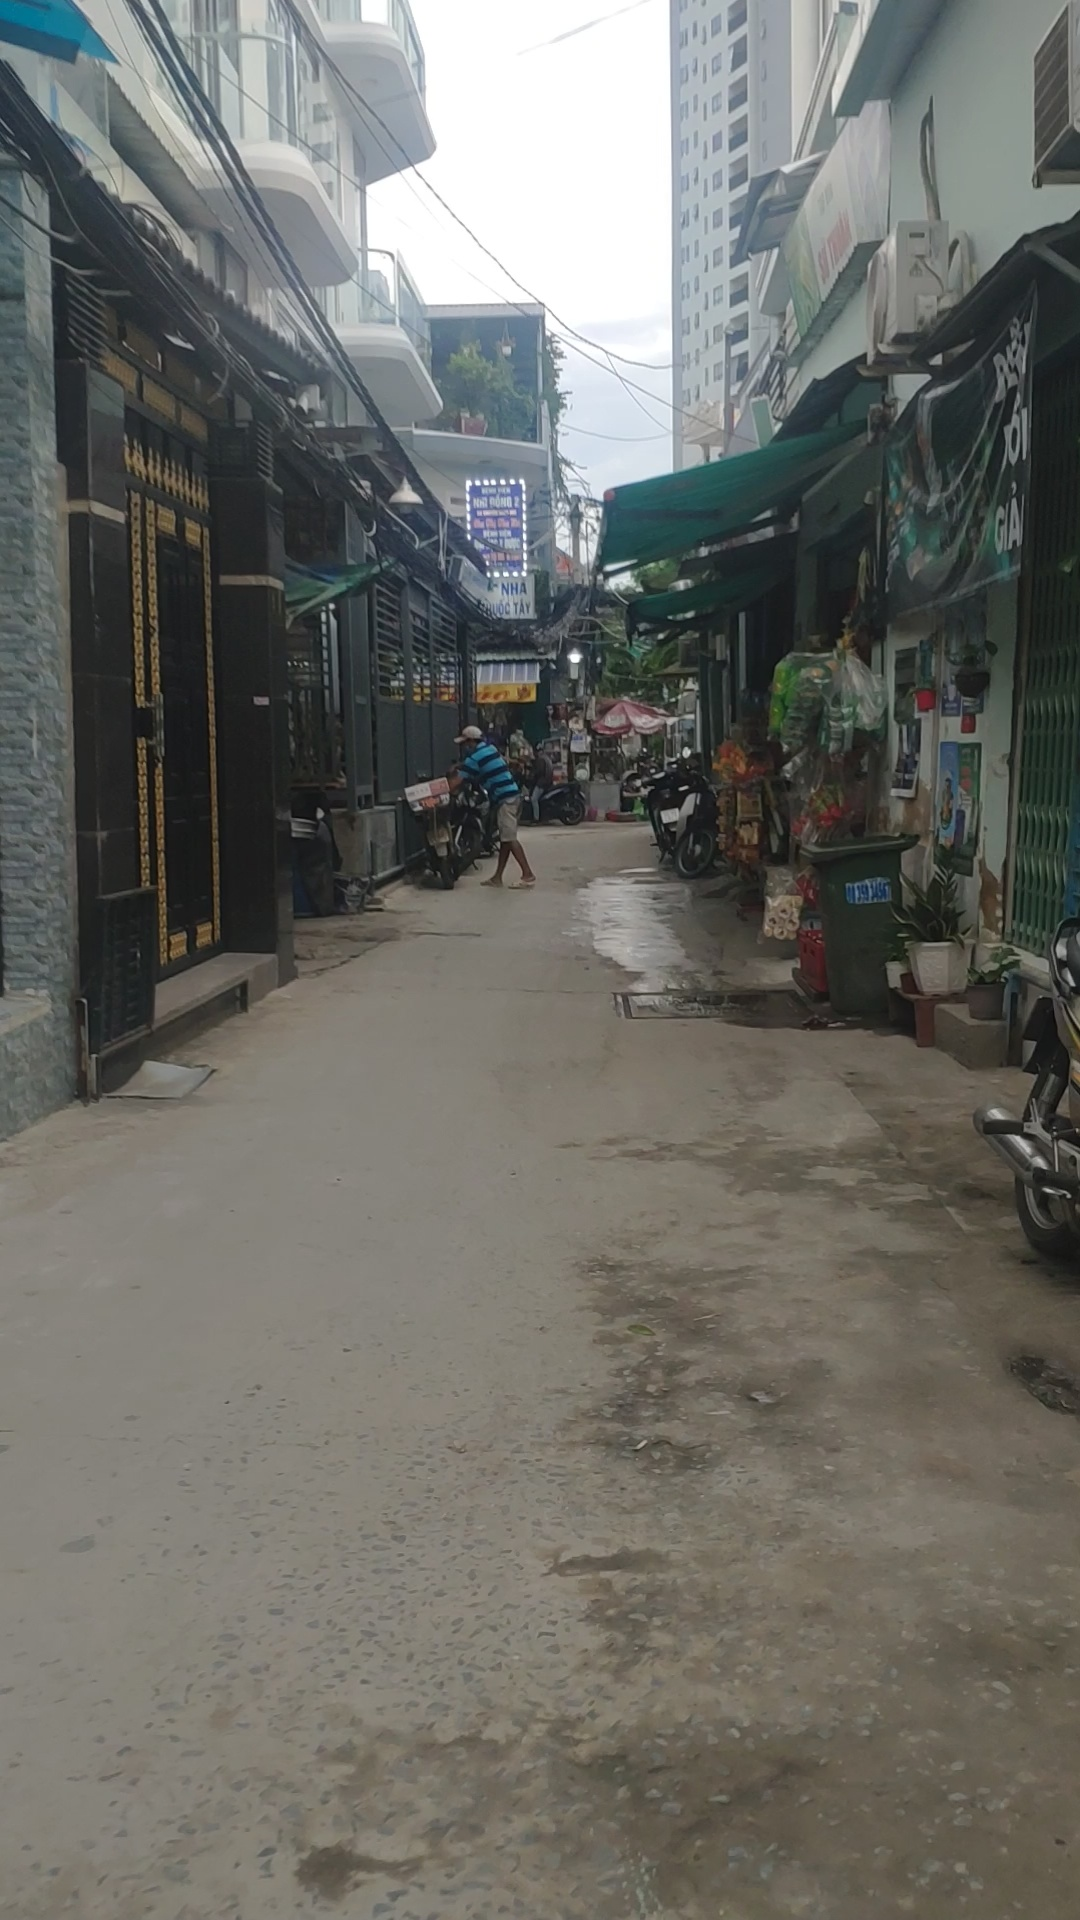hole: (591, 1408, 731, 1485), (996, 1344, 1080, 1425)
